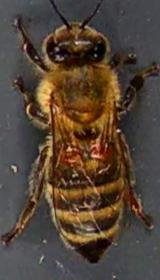varroa_mite: (58, 142, 86, 166), (85, 140, 112, 162)
